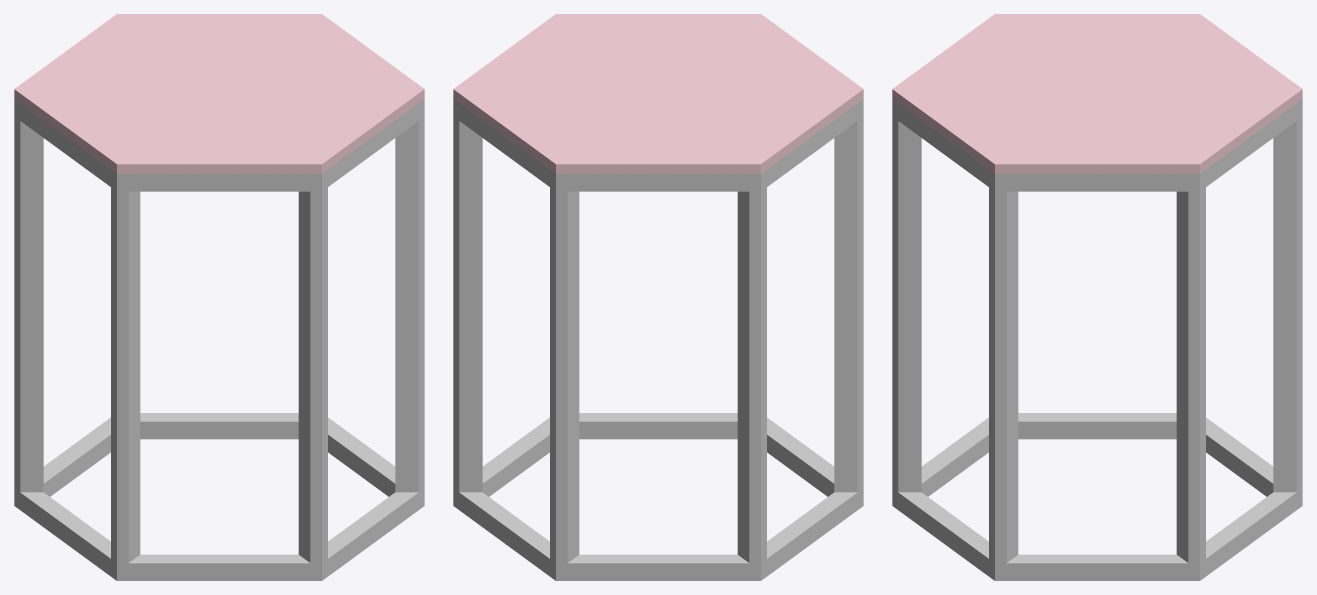
The model's file is Chair_HexPink.fbx.
3 renders of one model, left to right at view 1: azimuth 30°, elevation 25°; view 2: azimuth 150°, elevation 25°; view 3: azimuth 270°, elevation 25°, orthographic.
Visible parts, largest first — view 1: CH03M13; view 2: CH03M13; view 3: CH03M13.
Boxes of the visible parts, x1,y1,x2,y2 form: CH03M13: [14, 14, 424, 580]; CH03M13: [453, 14, 863, 580]; CH03M13: [892, 14, 1302, 580].
Size of the model in its own units: 34.71 by 44.9 by 40.08.
